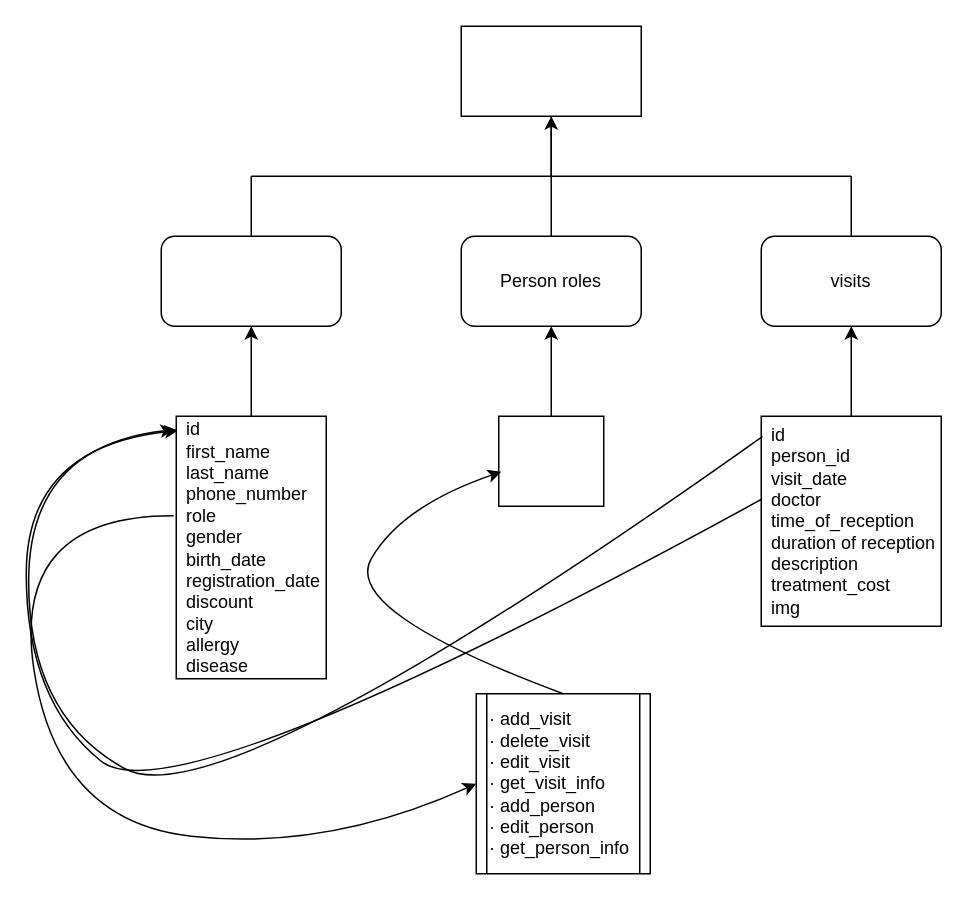
Image size: 968x900. Some labels were removed from this diagram. The shapes that lost their labels are listed below. From the top down, each one's centre as x and y in pixels, then its label:
At [550,70]: "Стоматологічний кабінет Happy Smile".
At [250,280]: "Persons".
At [550,460]: "id role_name".
